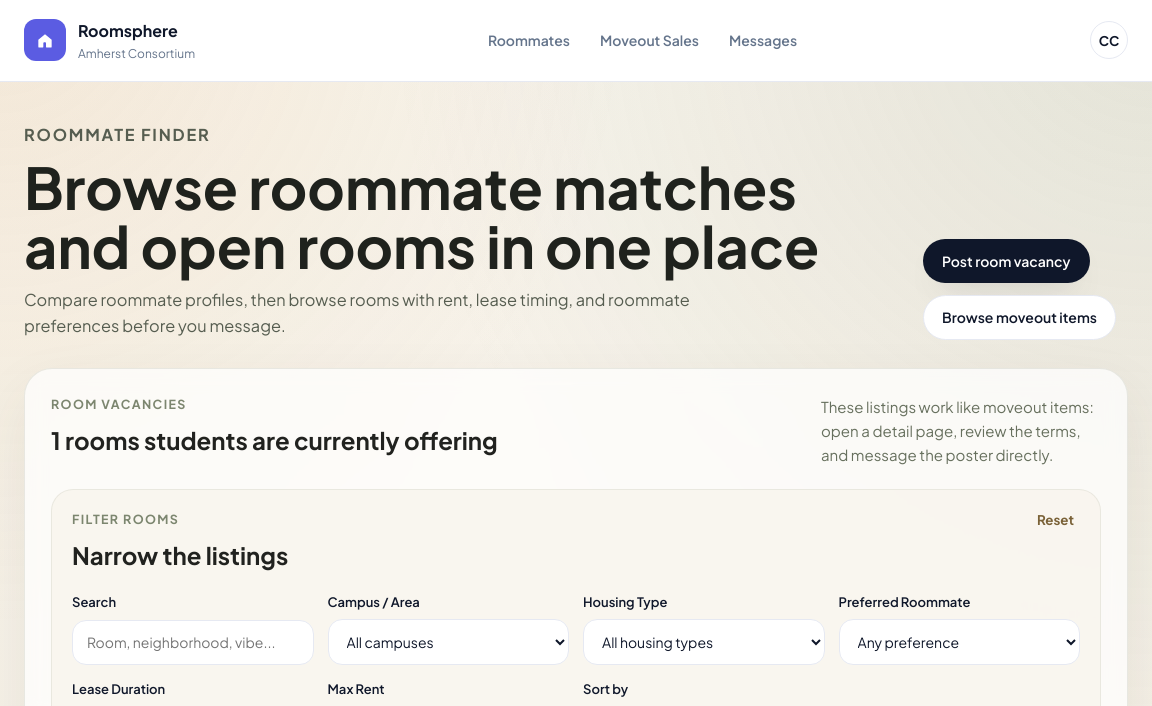
Test: RoommateFinder › updates the matching profile for a logged-in user
The width and height of the screenshot is (1152, 706).
Click the button "CC" at (1109, 40), box [1090,21,1128,59]
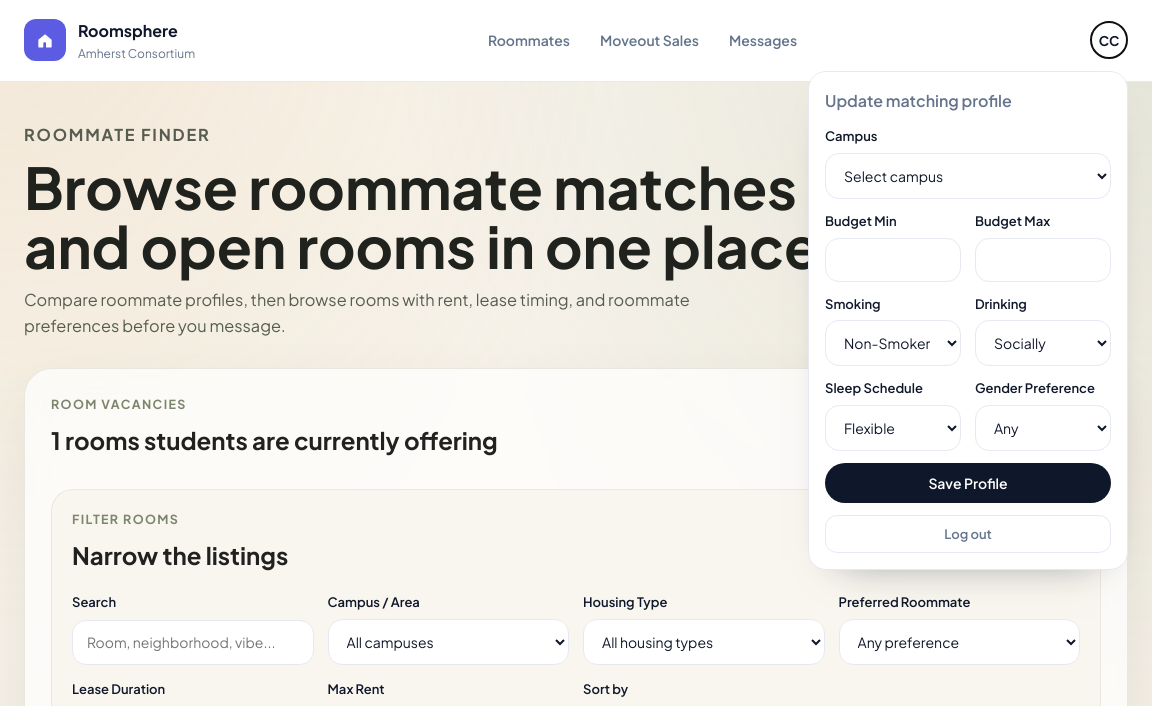
Select "Smith College" in the dropdown labelled "Campus" at (968, 176), box [825,153,1111,199]
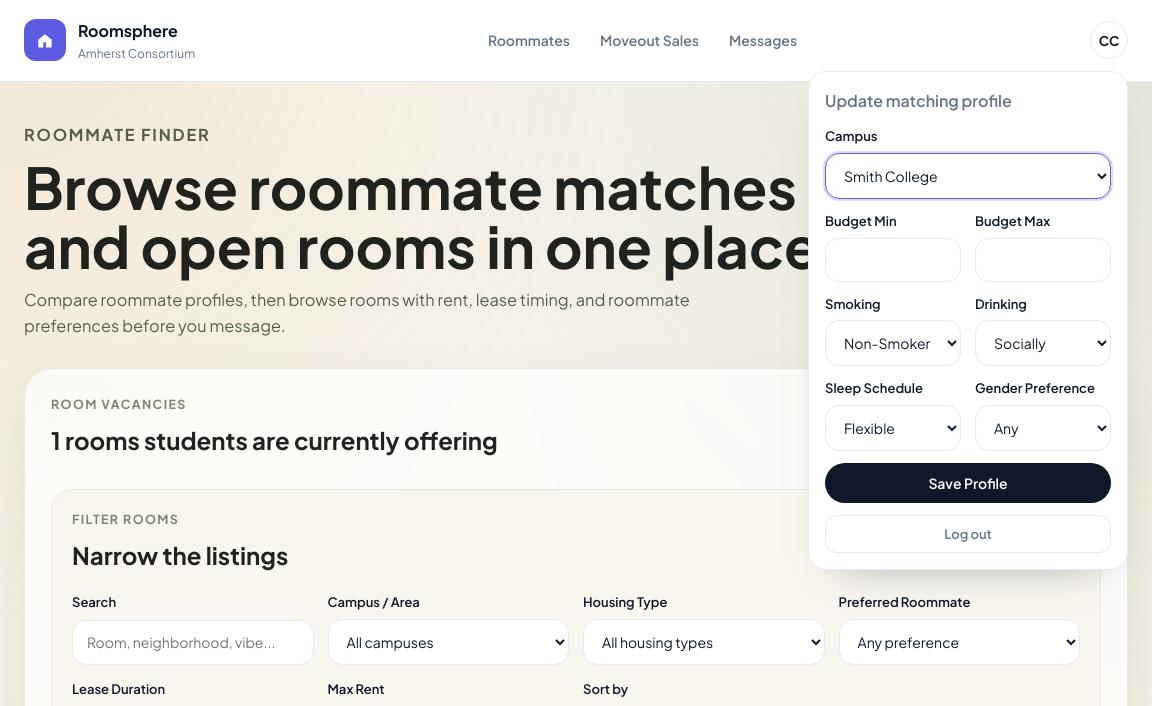
Type "700" into the number field labelled "Budget Min" at (893, 260), box [825,238,961,282]
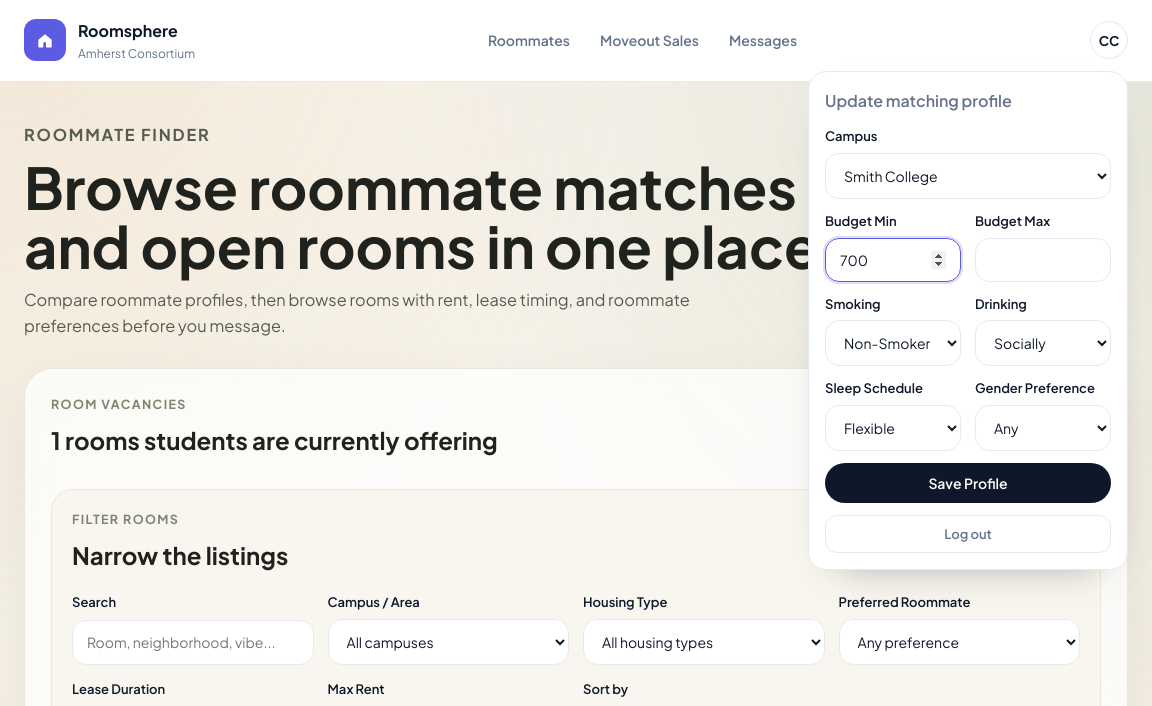
Type "1200" into the number field labelled "Budget Max" at (1043, 260), box [975,238,1111,282]
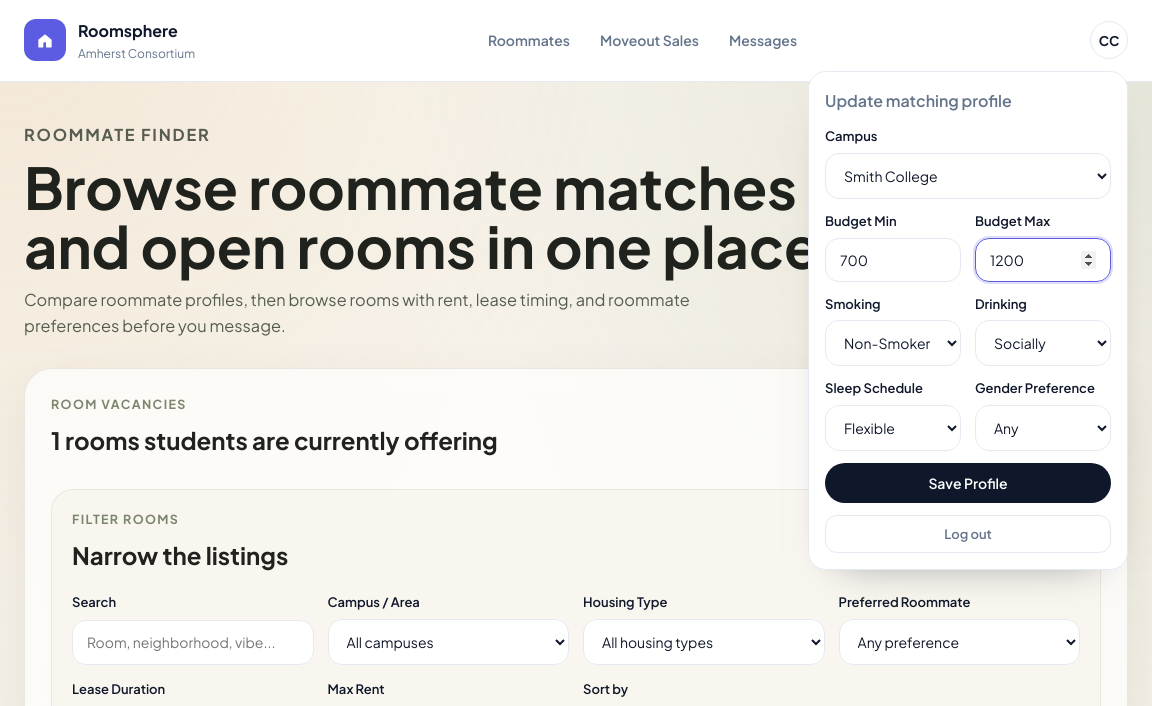
Click the button "Save Profile" at (968, 483), box [825,463,1111,503]
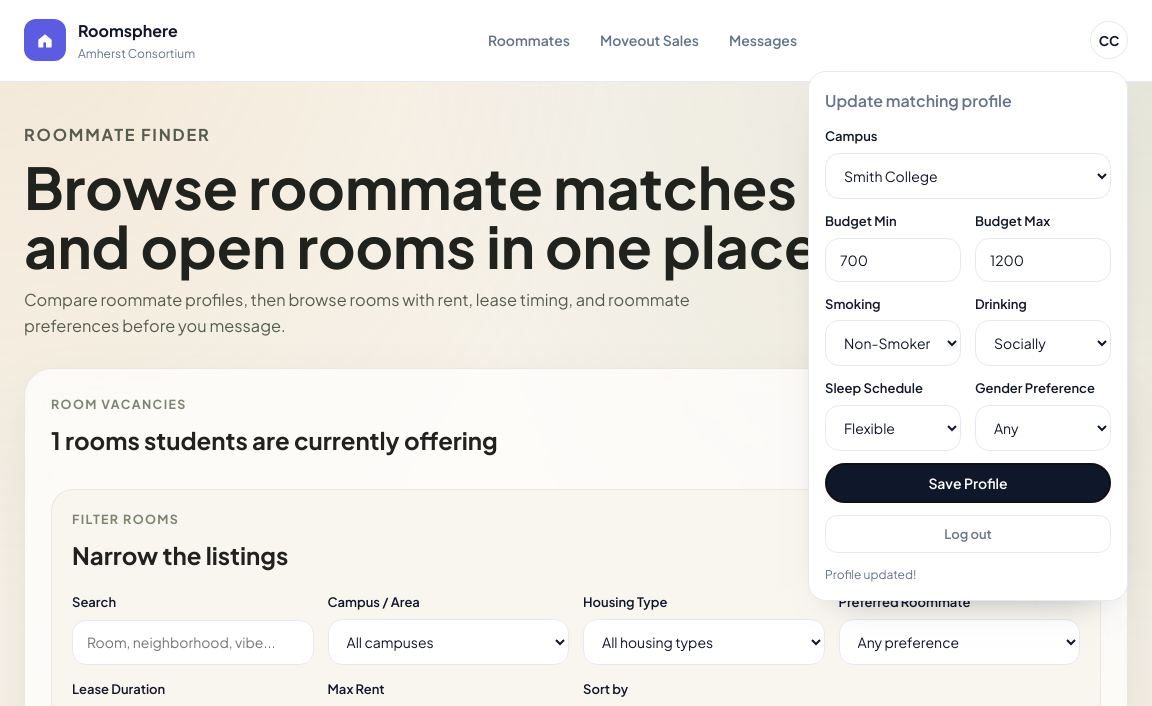
Check: the text "Profile updated!" is shown, box [825,567,916,582]
